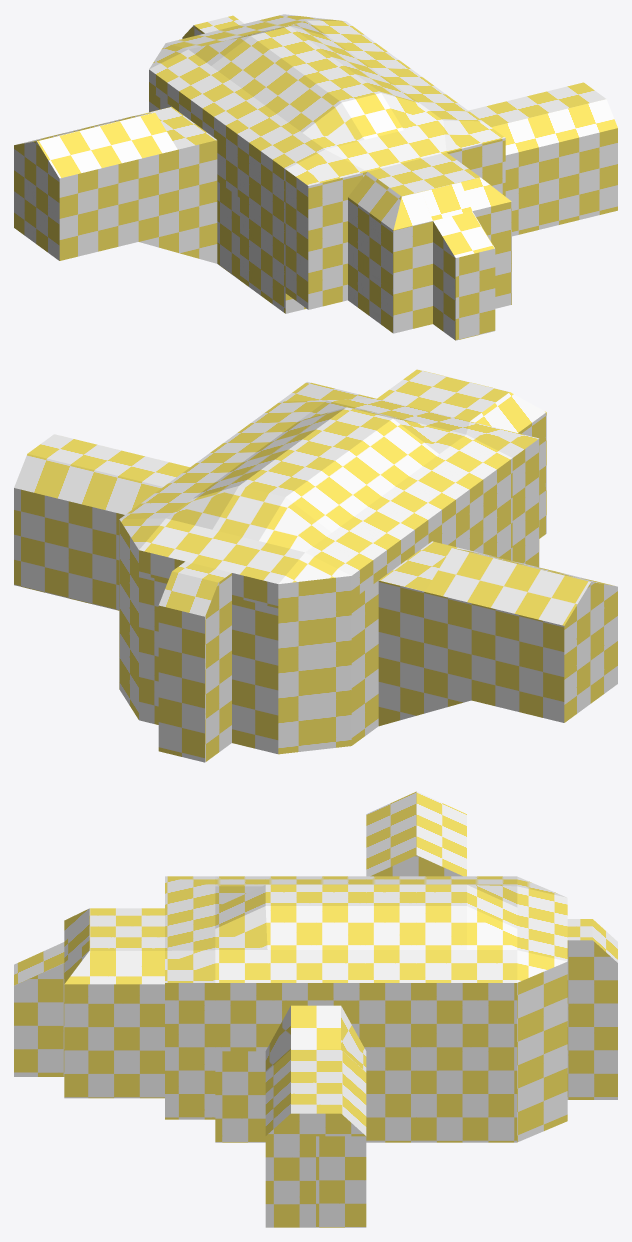
The model's file is Beta-Hub-V2.glb.
3 renders of one model, top to bottom at view 1: azimuth 30°, elevation 25°; view 2: azimuth 150°, elevation 25°; view 3: azimuth 270°, elevation 25°, orthographic. The views are drawn at different scales.
Parts seen in each view (by area): view 1: Circle; view 2: Circle; view 3: Circle.
Part boxes in pixels (x1,y1,x2,y2): Circle: [14, 14, 617, 340]; Circle: [14, 369, 617, 762]; Circle: [14, 791, 617, 1227].
Bounding box in the file's own units: 52 × 17 × 48.
Materials: 2 (2 with a texture image).
